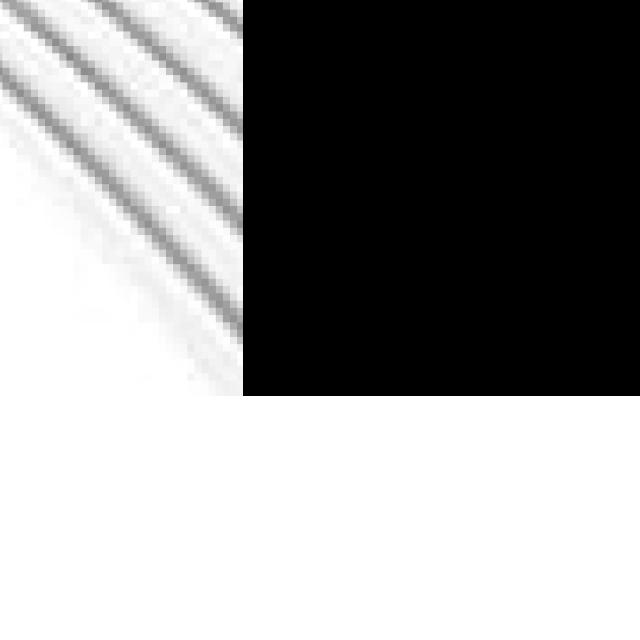forks: (0, 0, 243, 396)
